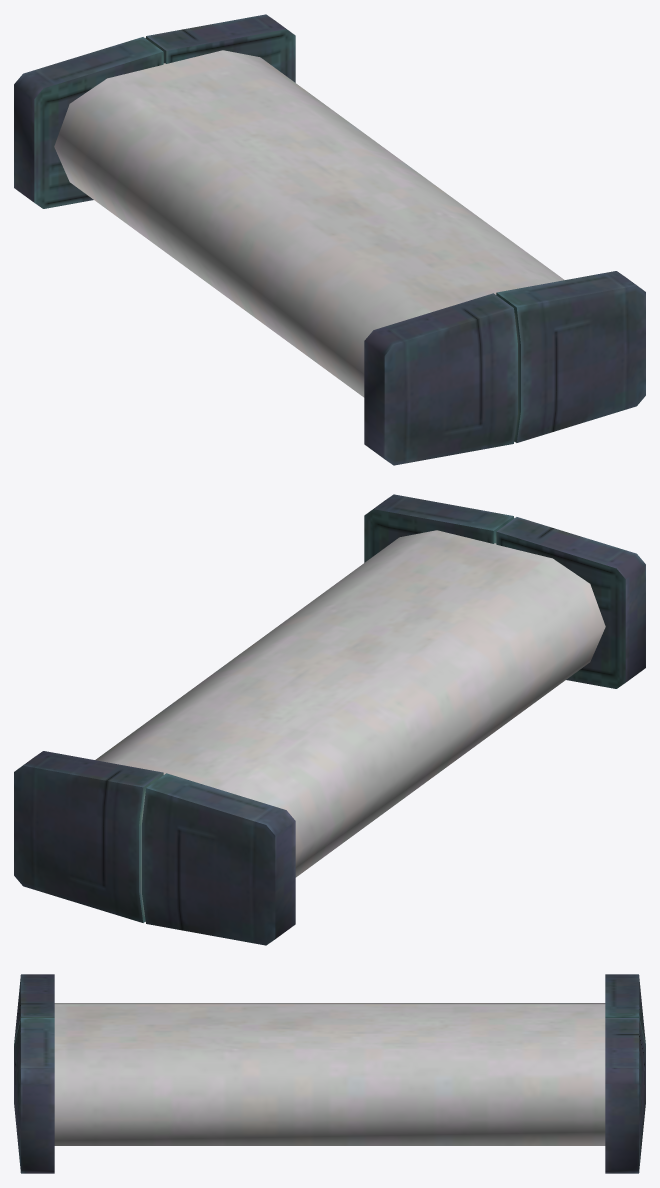
Rendered from eqp_jedi_sith_scroll_s1_l0.fbx.
3 views of the same model, one above another, from view 1: azimuth 30°, elevation 25°; view 2: azimuth 150°, elevation 25°; view 3: azimuth 270°, elevation 25° (orthographic). The views are drawn at different scales.
Visible parts, largest first — view 1: mesh_node; view 2: mesh_node; view 3: mesh_node.
Boxes of the visible parts, <box> form: mesh_node: <box>14,14,645,465</box>; mesh_node: <box>14,494,645,945</box>; mesh_node: <box>14,974,645,1173</box>.
Size of the model in its own units: 0.112 by 0.0556 by 0.2813.
